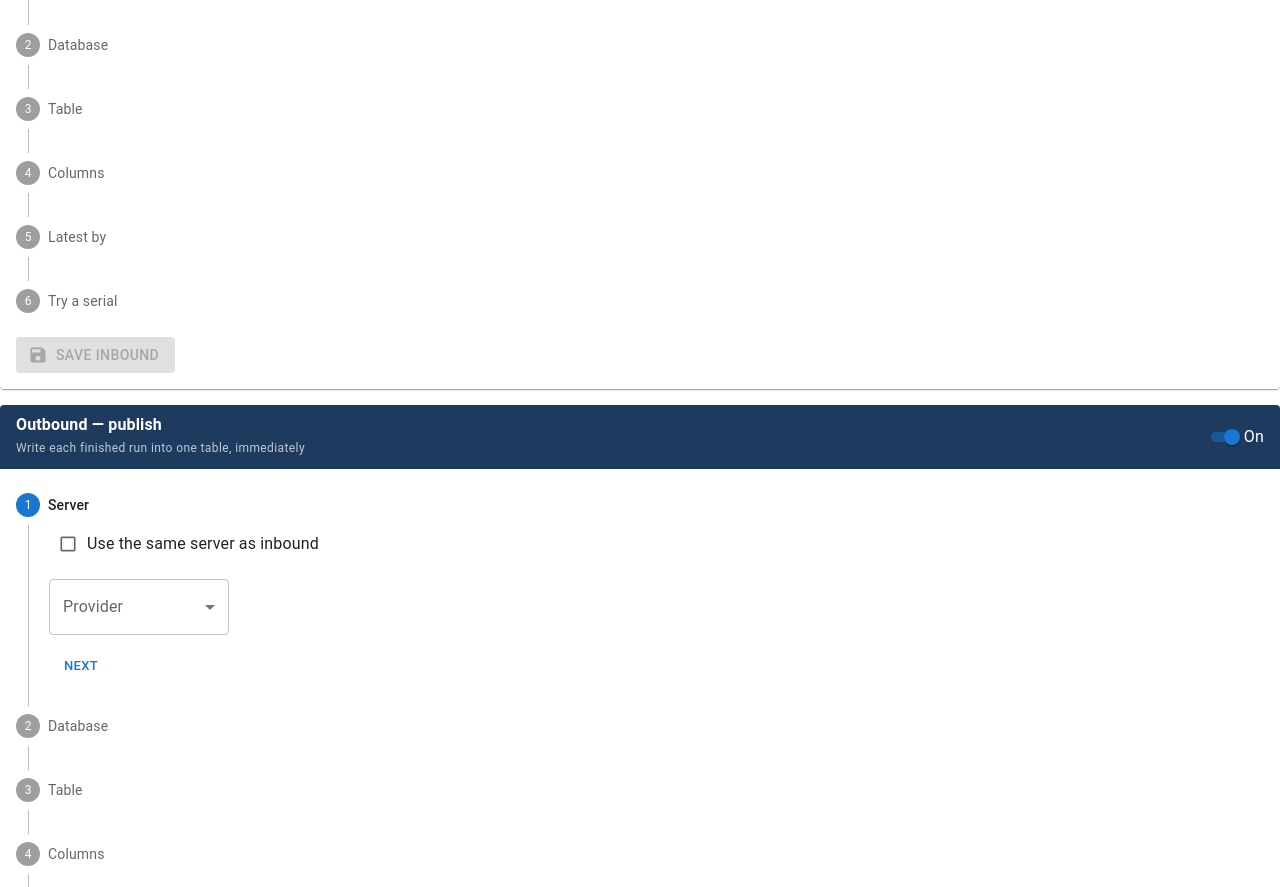
Test: ConfigMes › each direction can be switched off independently
This screenshot has width=1280, height=887.
(page scrolled)
Click the checkbox named "outbound enabled" at x=1234, y=437, box x1=1204 y1=425 x2=1264 y2=449
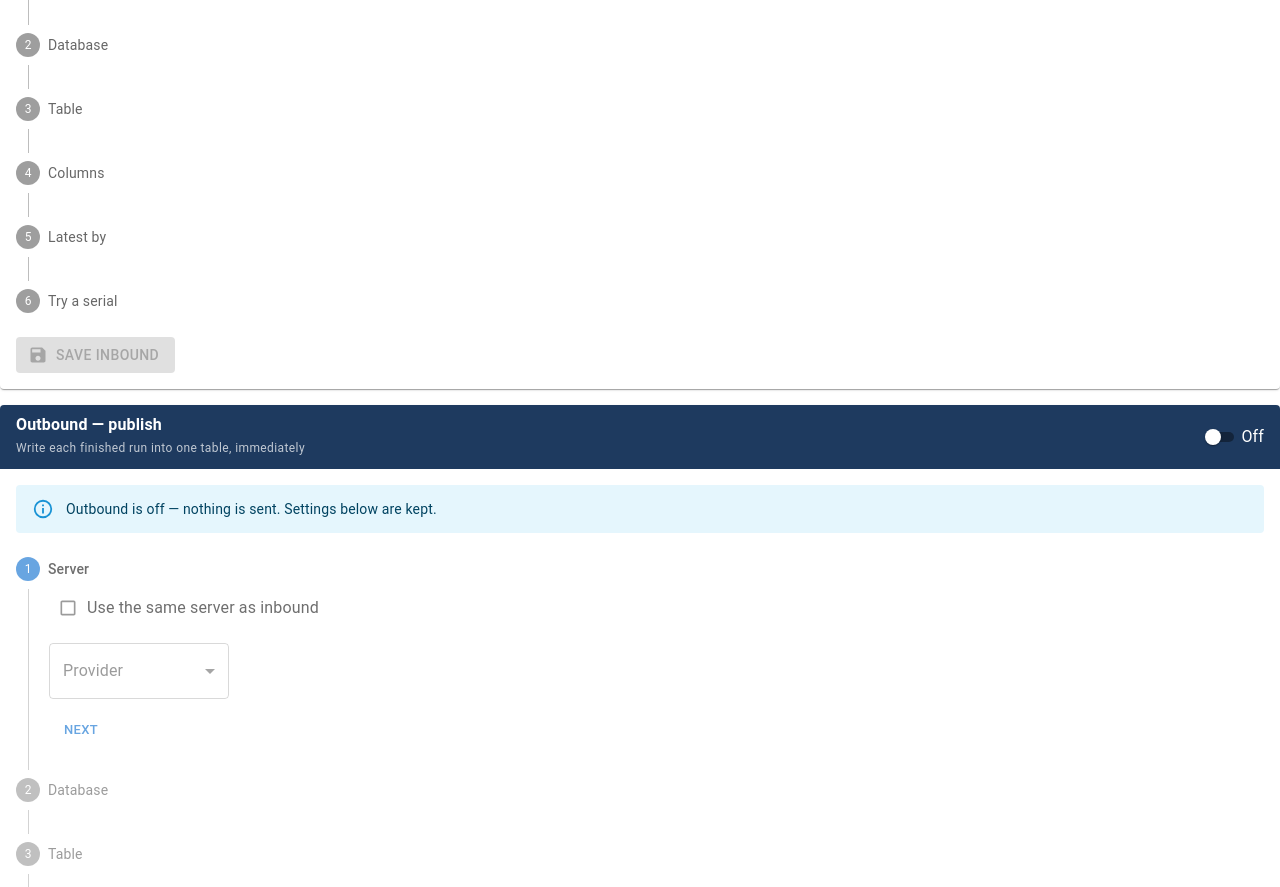
Expected: the text "Outbound is off — nothing is sent. Settings below are kept." is shown, x1=66 y1=501 x2=437 y2=517
